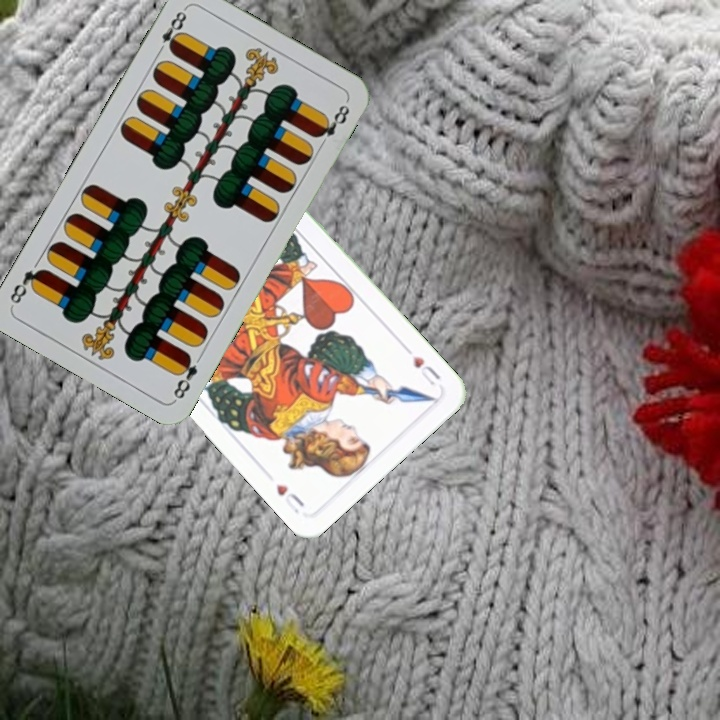E8: (153, 4, 190, 58), (169, 349, 200, 403)
HU: (400, 343, 443, 389)
